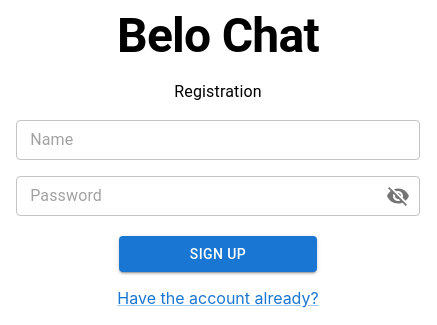
it: Home page › Should change content after the link is clicked
Click the link "Have the account already?" at x=218, y=298, box [117,288,319,308]
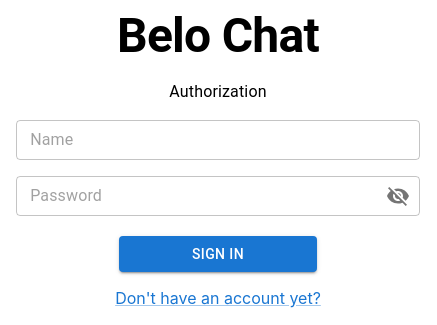
Check: the text "Authorization" is shown, box [169,80,267,104]
Click the link "Don't have an account yet?" at x=218, y=298, box [115,288,321,308]
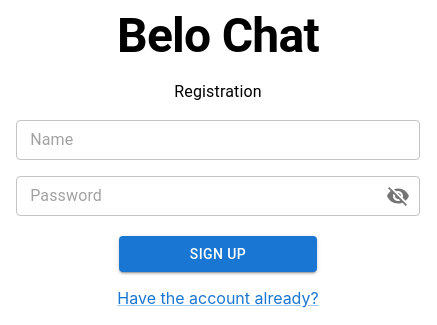
Check: the text "Registration" is shown, box [174,80,262,104]
